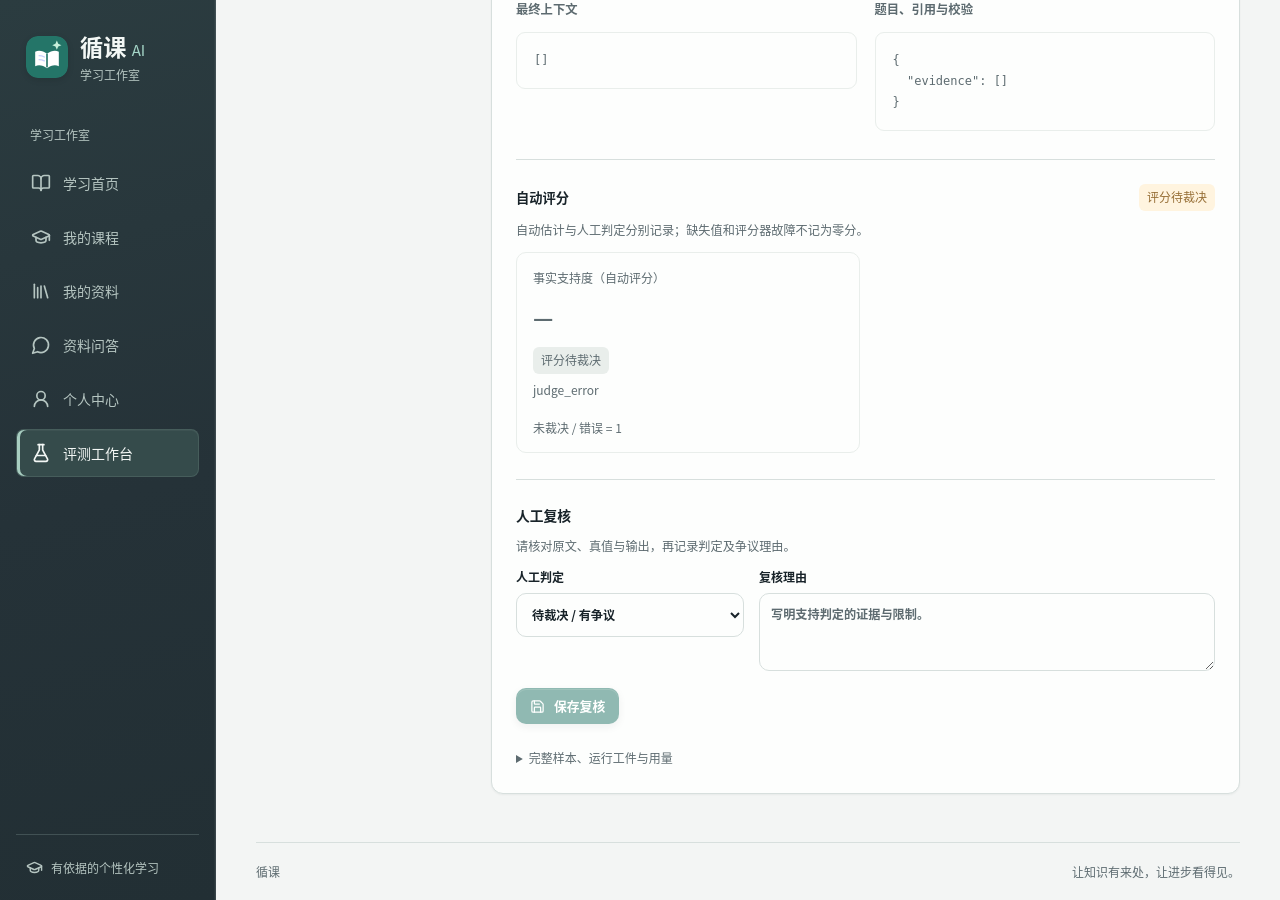
Test case: evaluation workbench › persists a human review with its expected revision
(page scrolled)
Select "待裁决 / 有争议" in the dropdown labelled "人工判定" at [630, 615], box [516,593,744,637]
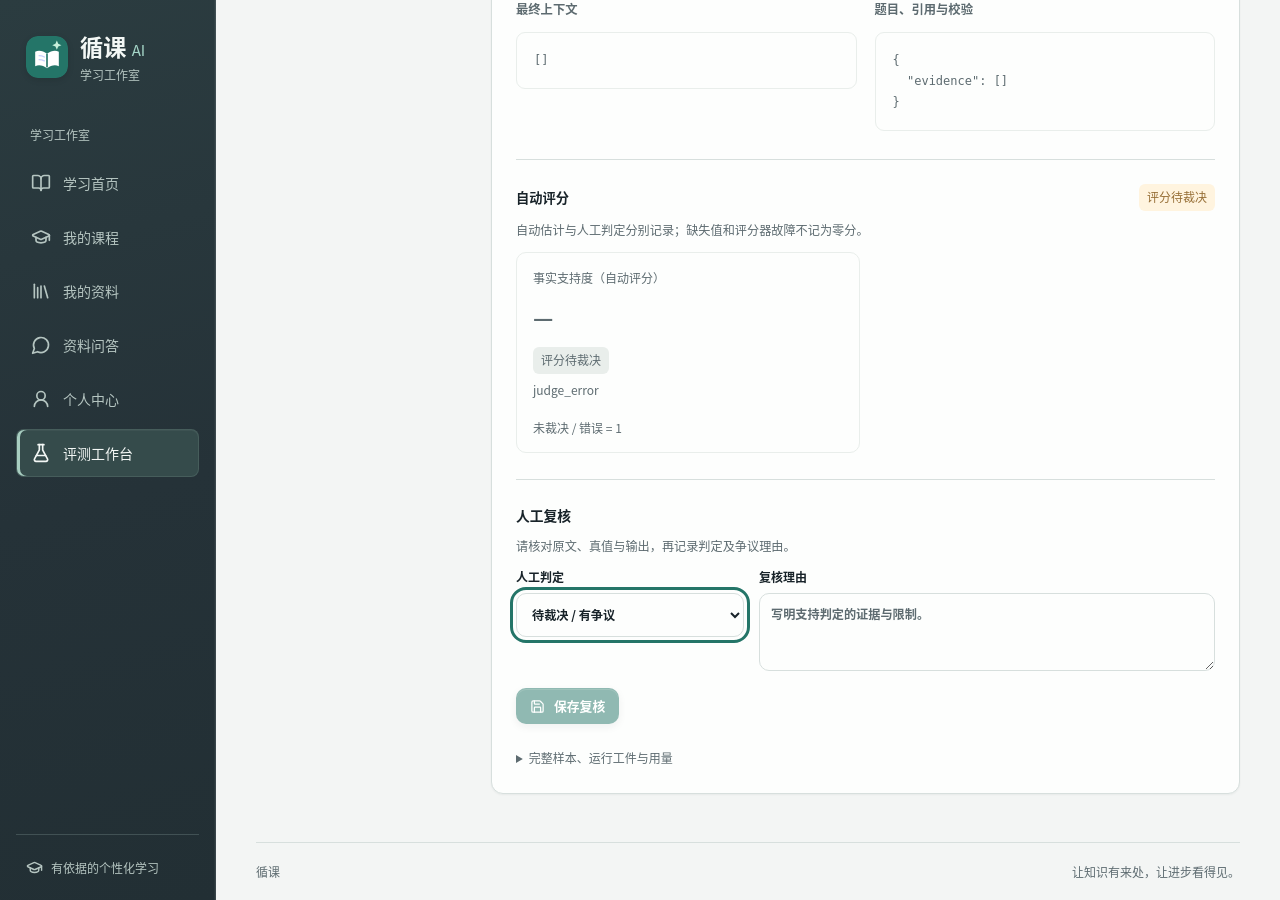
Type "评分器异常，需要补充证据后裁决。" into the text box labelled "复核理由".
click(987, 632); type("评分器异常，需要补充证据后裁决。")  # box [759,593,1215,671]
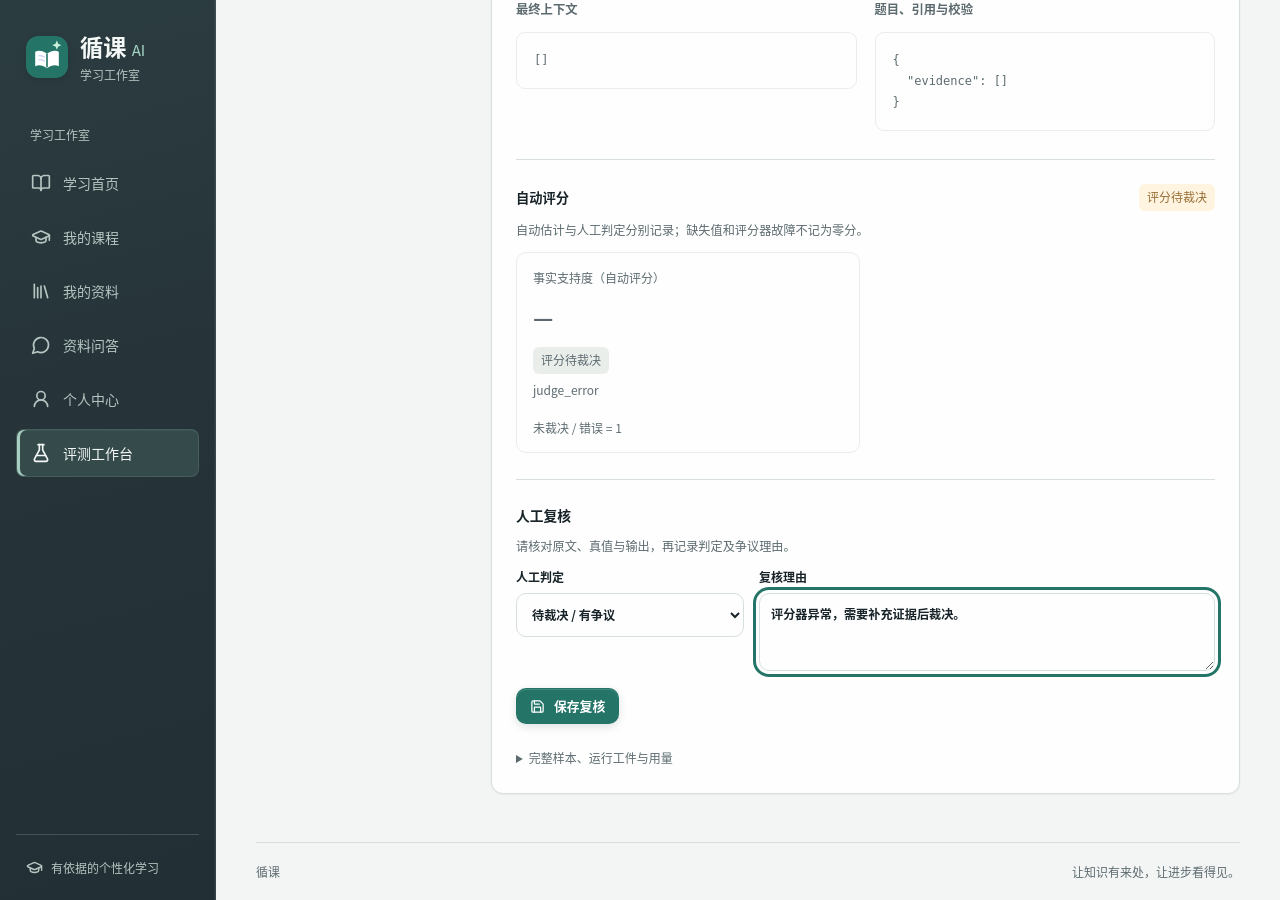
Click the button "保存复核".
click(568, 706)  # box [516,688,619,724]
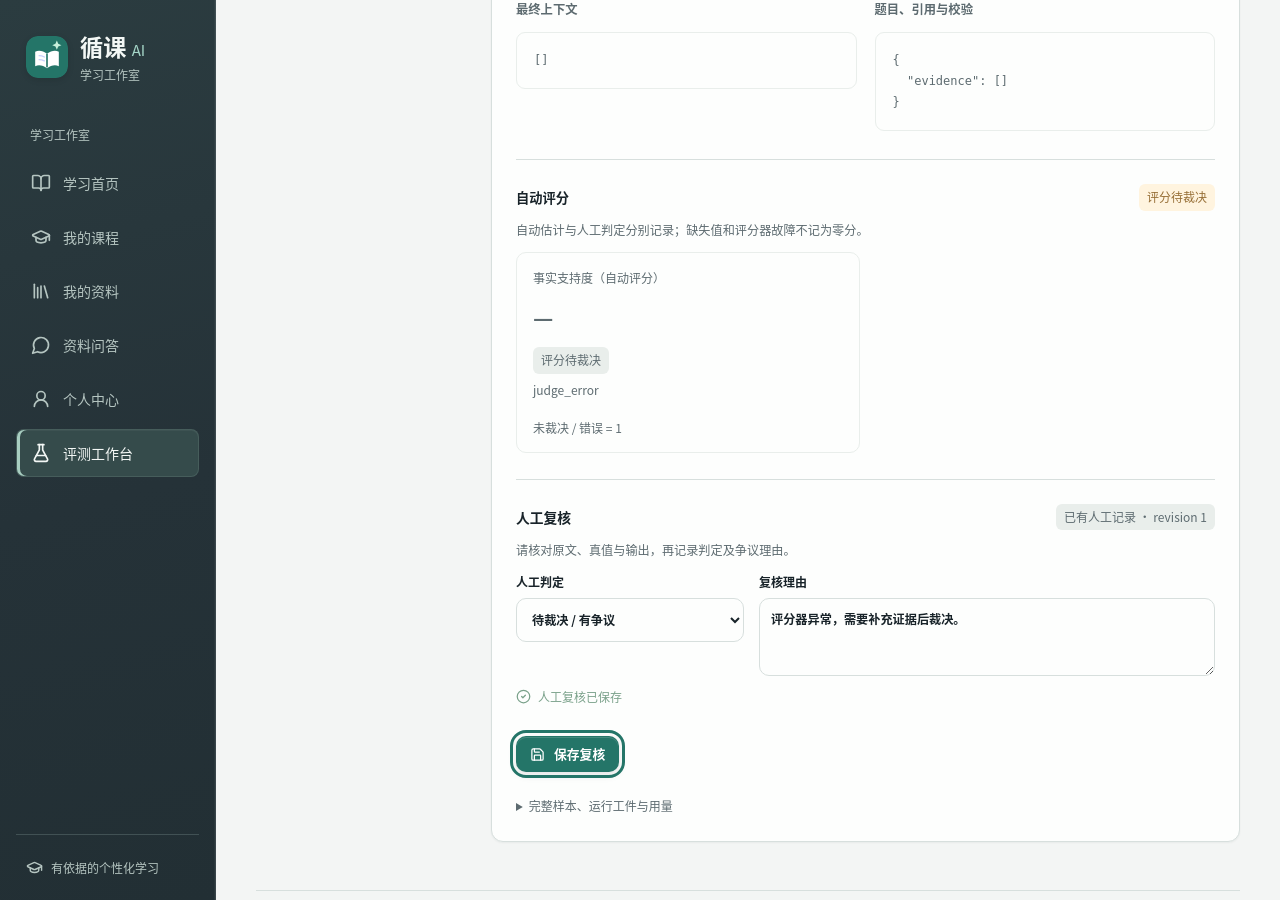
Result: the text "人工复核已保存" is shown at [516,688,622,704]
